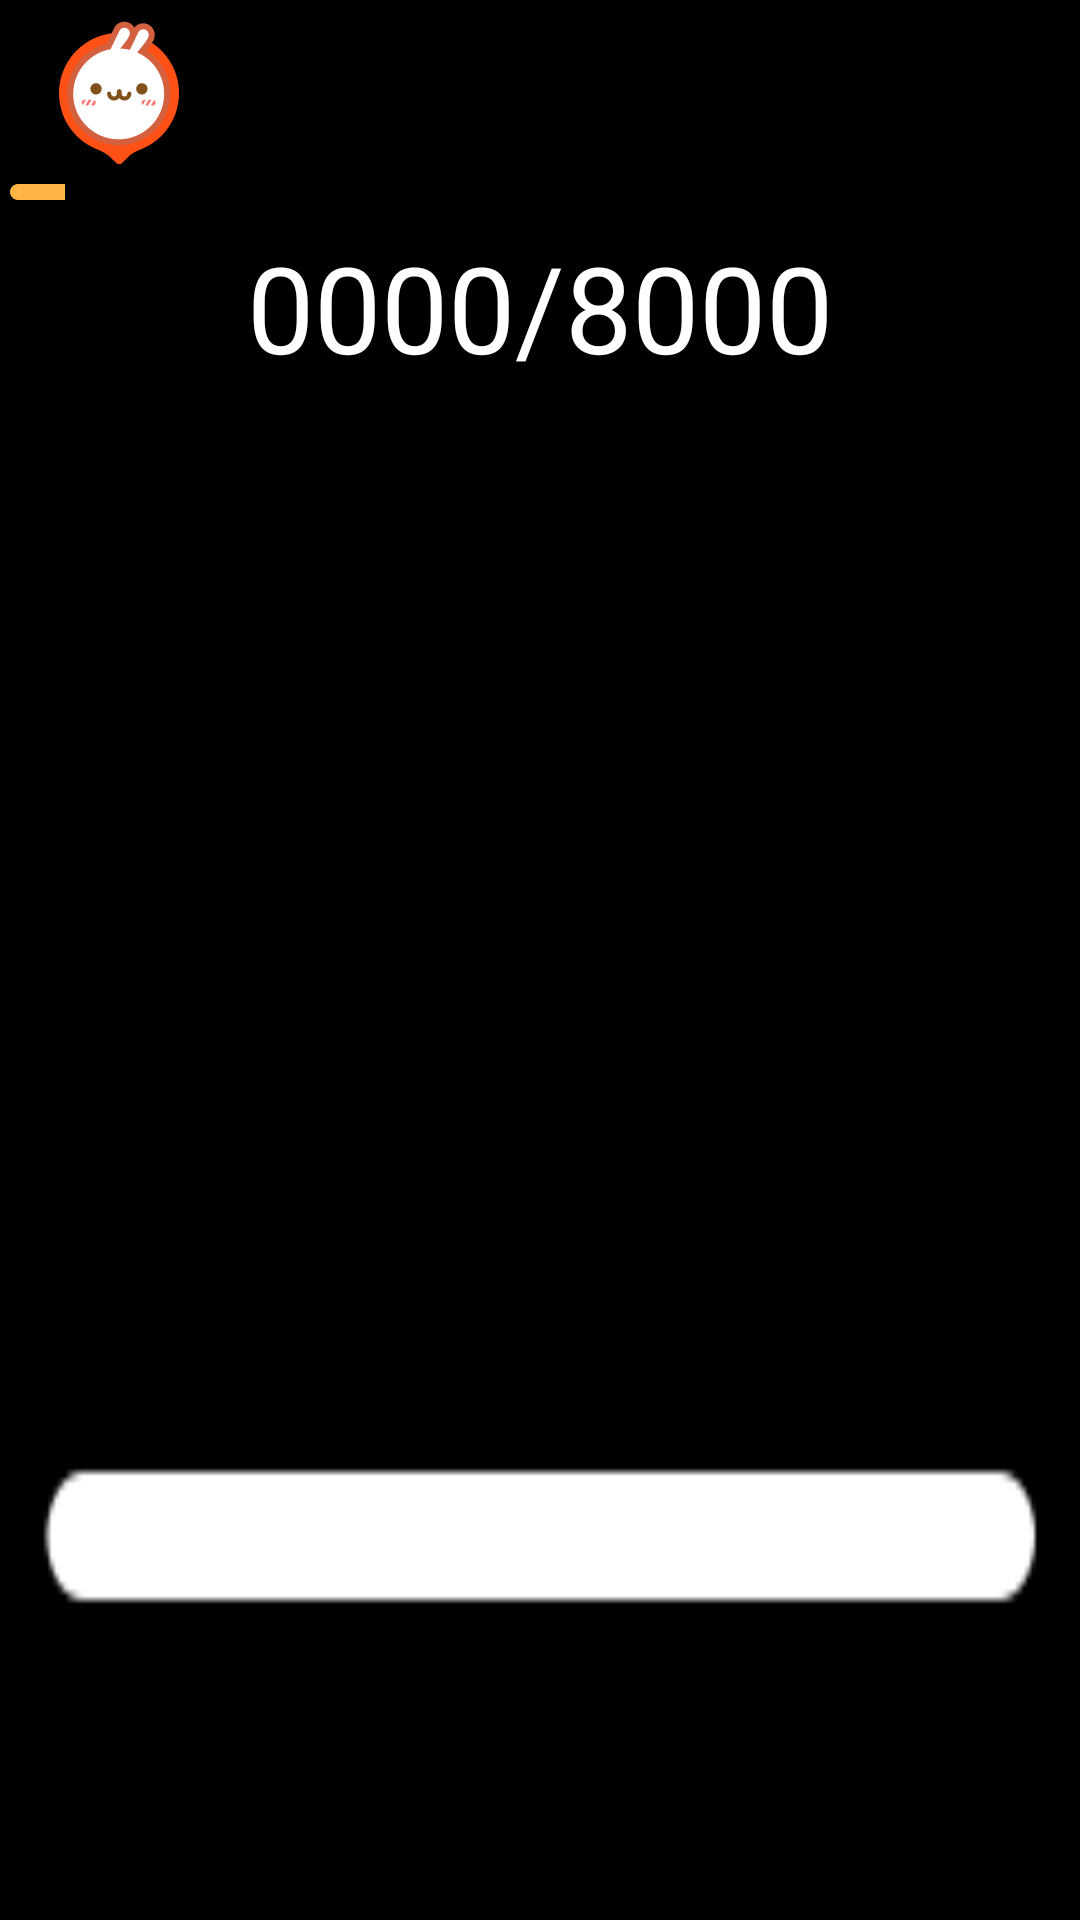

Locate icon controls on the screen. Image size 1080w x 1920h, boxes as [x1=x1, y1=y1, x2=x2, y2=y2].
mainpage head: [x1=59, y1=21, x2=179, y2=165]
